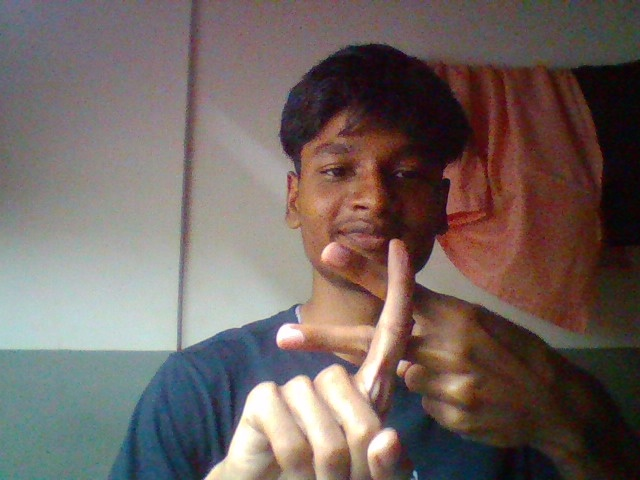K: (208, 204, 529, 421)
